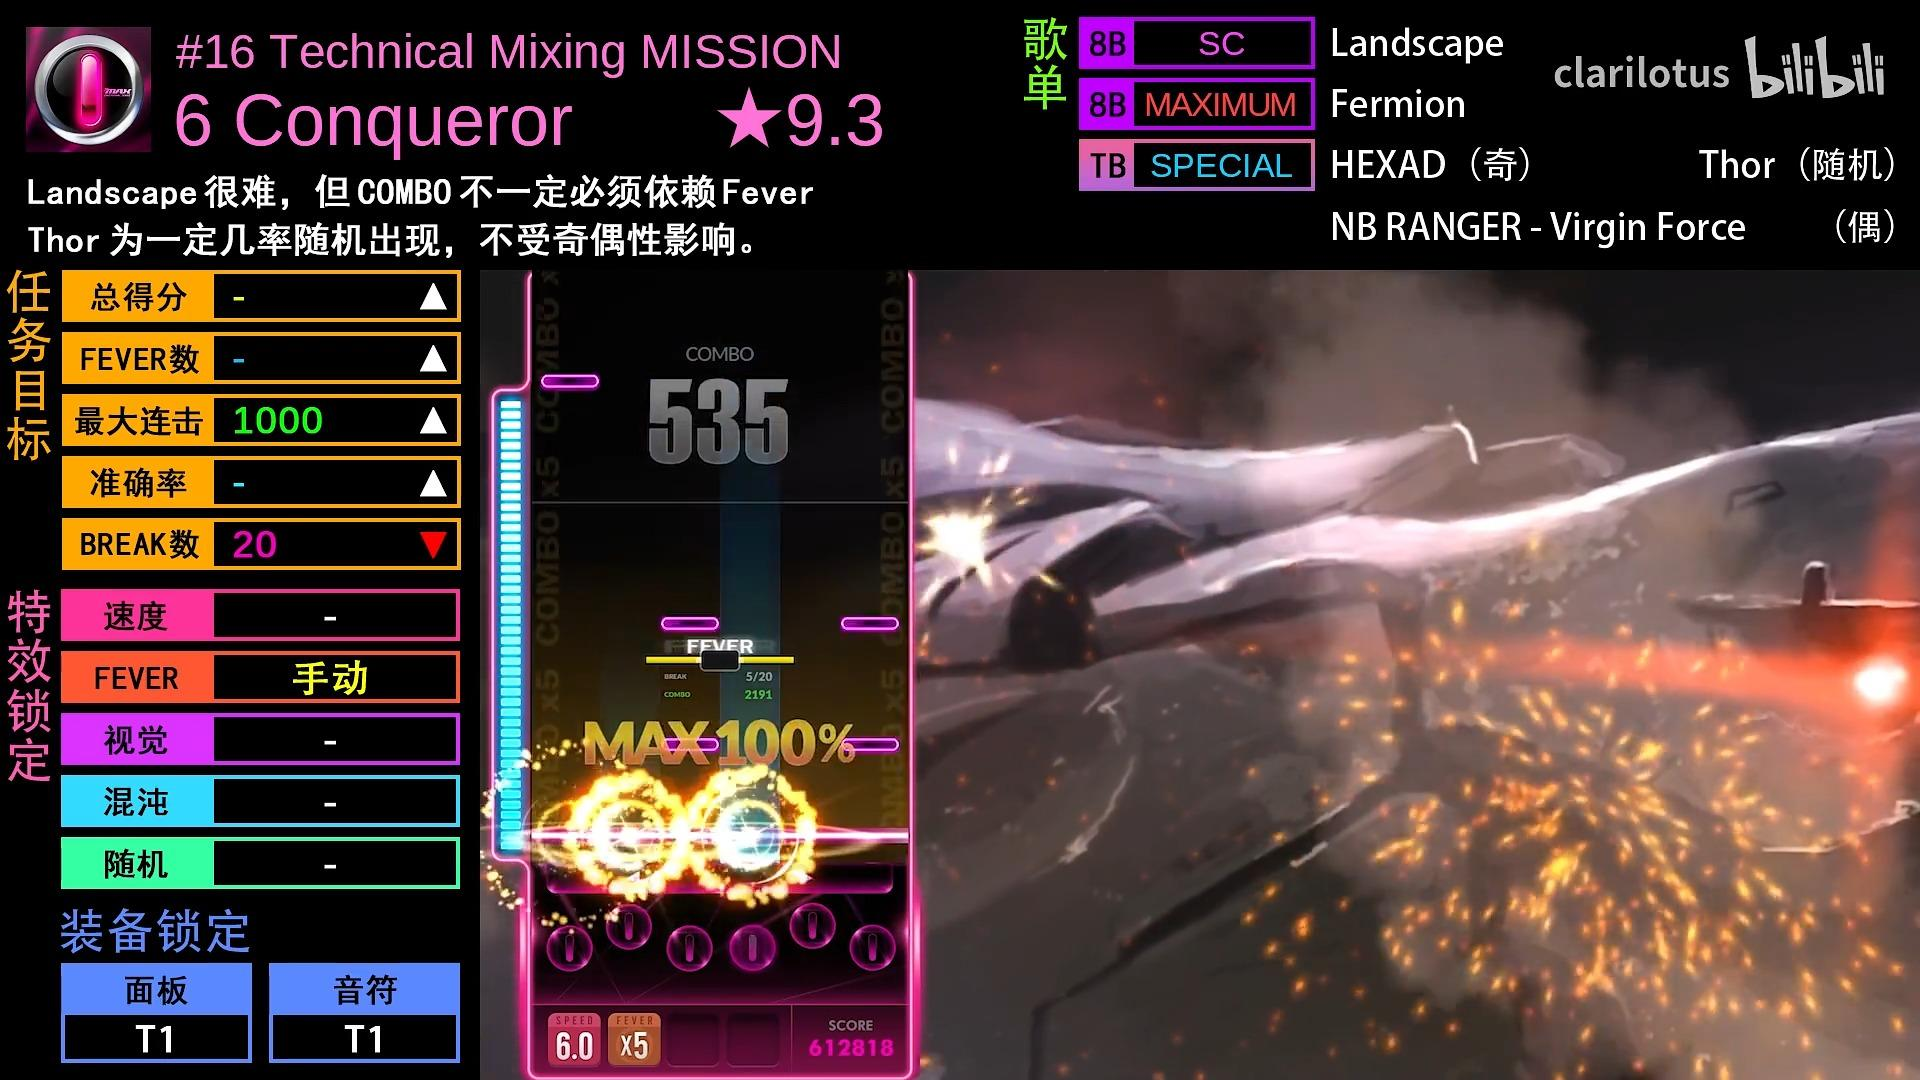note: (840, 616, 898, 632), (841, 737, 899, 752), (542, 375, 599, 389), (661, 617, 720, 630), (661, 738, 719, 752)
